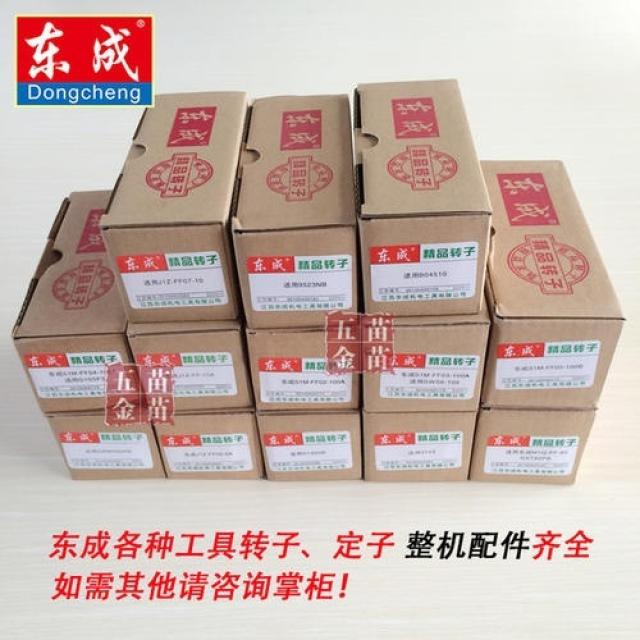box: (480, 160, 626, 408), (99, 92, 251, 323), (353, 78, 492, 316), (10, 189, 147, 415), (230, 95, 357, 328), (362, 292, 490, 411), (127, 321, 252, 413), (471, 408, 596, 486), (247, 329, 360, 410), (45, 410, 168, 480), (154, 408, 262, 480), (364, 412, 476, 481), (256, 411, 361, 480)
